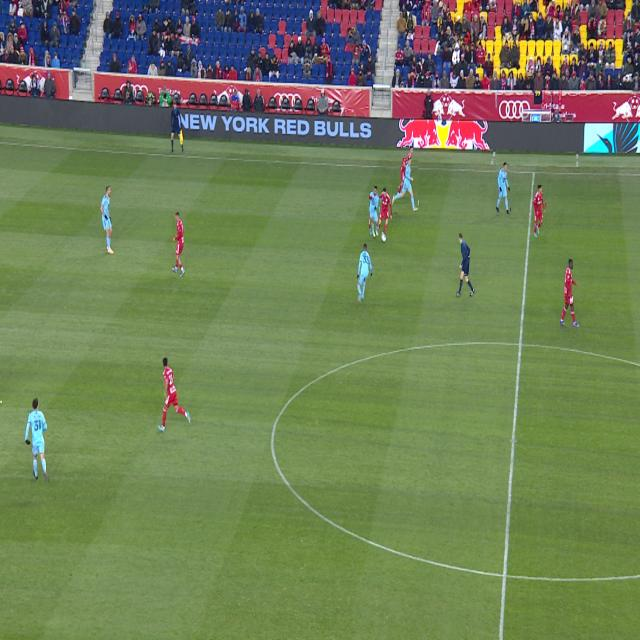football: (381, 233, 387, 242)
player: (158, 358, 190, 432), (25, 398, 49, 483), (393, 158, 418, 212), (560, 259, 579, 327), (100, 186, 114, 254), (357, 244, 373, 301), (375, 188, 392, 241), (172, 212, 185, 277), (497, 163, 510, 215), (534, 185, 545, 238), (402, 146, 413, 195), (370, 186, 379, 237), (379, 198, 382, 201), (0, 401, 2, 404)
referee: (456, 233, 474, 296)
